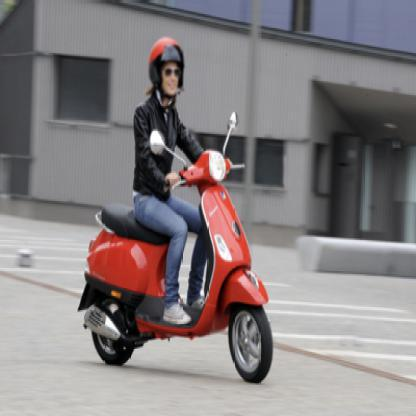Helmet: (141, 30, 188, 112)
